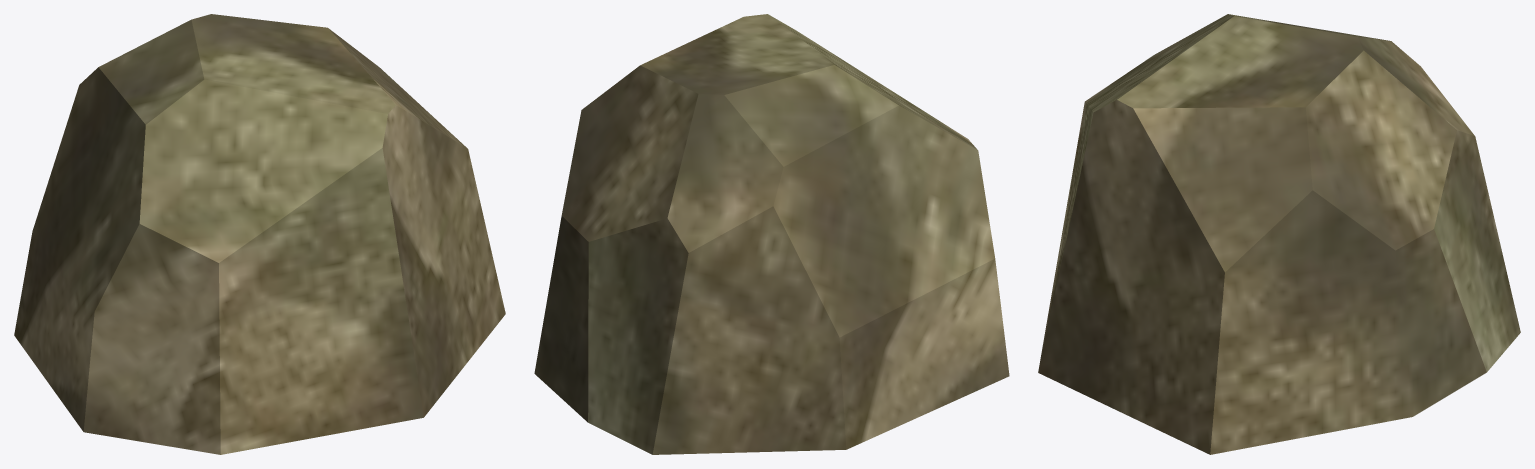
File: ROCHE-M.glb
3 renders of one model, left to right at view 1: azimuth 30°, elevation 25°; view 2: azimuth 150°, elevation 25°; view 3: azimuth 270°, elevation 25°, orthographic.
Parts seen in each view (by area): view 1: Cylinder.001; view 2: Cylinder.001; view 3: Cylinder.001.
Boxes of the visible parts, bbox=[...] form: Cylinder.001: bbox=[14, 14, 505, 454]; Cylinder.001: bbox=[534, 14, 1009, 454]; Cylinder.001: bbox=[1038, 14, 1520, 454].
Size of the model in its own units: 2.19 by 1.43 by 2.08.
1 material, 1 textured.
